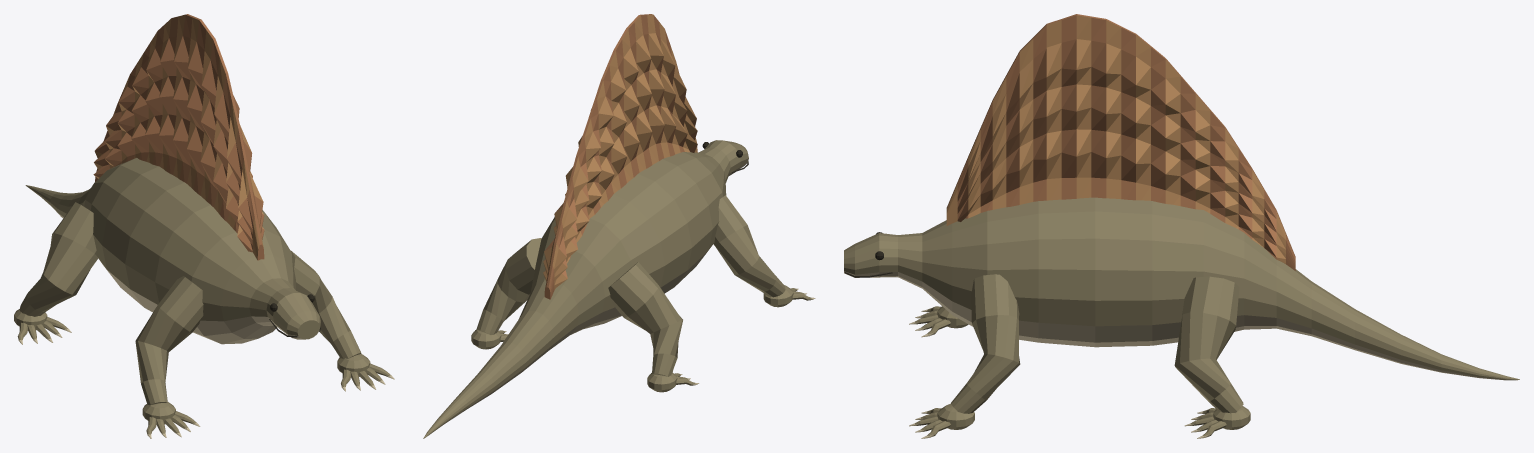
3 renders of one model, left to right at view 1: azimuth 30°, elevation 25°; view 2: azimuth 150°, elevation 25°; view 3: azimuth 270°, elevation 25°, orthographic. The views are drawn at different scales.
Visible parts, largest first — view 1: axial-head-neck-barrel-tail, continuous-sail-with-transverse-bosses, left-forelimb, left-hindlimb, right-forelimb; view 2: axial-head-neck-barrel-tail, continuous-sail-with-transverse-bosses, left-hindlimb, left-forelimb, right-hindlimb; view 3: axial-head-neck-barrel-tail, continuous-sail-with-transverse-bosses, right-hindlimb, right-forelimb, left-forelimb.
Boxes of the visible parts, bbox=[...] form: axial-head-neck-barrel-tail: bbox=[25, 158, 320, 344]; continuous-sail-with-transverse-bosses: bbox=[93, 14, 264, 260]; left-forelimb: bbox=[135, 276, 203, 434]; left-hindlimb: bbox=[14, 202, 98, 339]; right-forelimb: bbox=[291, 251, 390, 386]; axial-head-neck-barrel-tail: bbox=[423, 140, 748, 438]; continuous-sail-with-transverse-bosses: bbox=[543, 14, 697, 299]; left-hindlimb: bbox=[608, 262, 695, 392]; left-forelimb: bbox=[713, 195, 811, 307]; right-hindlimb: bbox=[471, 238, 541, 349]; axial-head-neck-barrel-tail: bbox=[844, 197, 1519, 380]; continuous-sail-with-transverse-bosses: bbox=[946, 14, 1295, 270]; right-hindlimb: bbox=[1174, 276, 1250, 437]; right-forelimb: bbox=[915, 274, 1020, 437]; left-forelimb: bbox=[915, 306, 968, 336].
Size of the model in its own units: 1.12 by 1.48 by 2.5.
